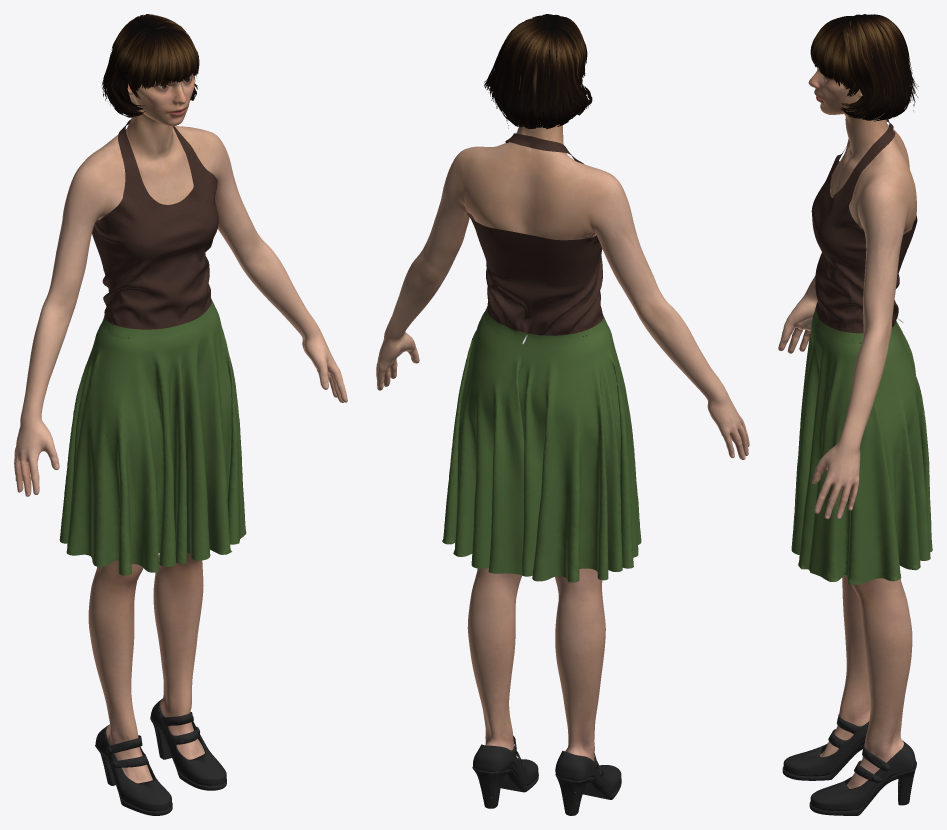
3 views of the same model, side by side, from view 1: azimuth 30°, elevation 25°; view 2: azimuth 150°, elevation 25°; view 3: azimuth 270°, elevation 25° (orthographic). The views are drawn at different scales.
Visible parts, largest first — view 1: Cloth, Avatar; view 2: Avatar, Cloth; view 3: Avatar, Cloth.
Boxes of the visible parts, bbox=[...] form: Cloth: bbox=[59, 119, 246, 575]; Avatar: bbox=[14, 14, 347, 815]; Avatar: bbox=[376, 14, 749, 815]; Cloth: bbox=[442, 133, 641, 582]; Avatar: bbox=[778, 14, 918, 815]; Cloth: bbox=[791, 119, 932, 584].
Bounding box in the file's own units: 0.7811 × 1.67 × 0.303.
16 materials, 15 textured.
